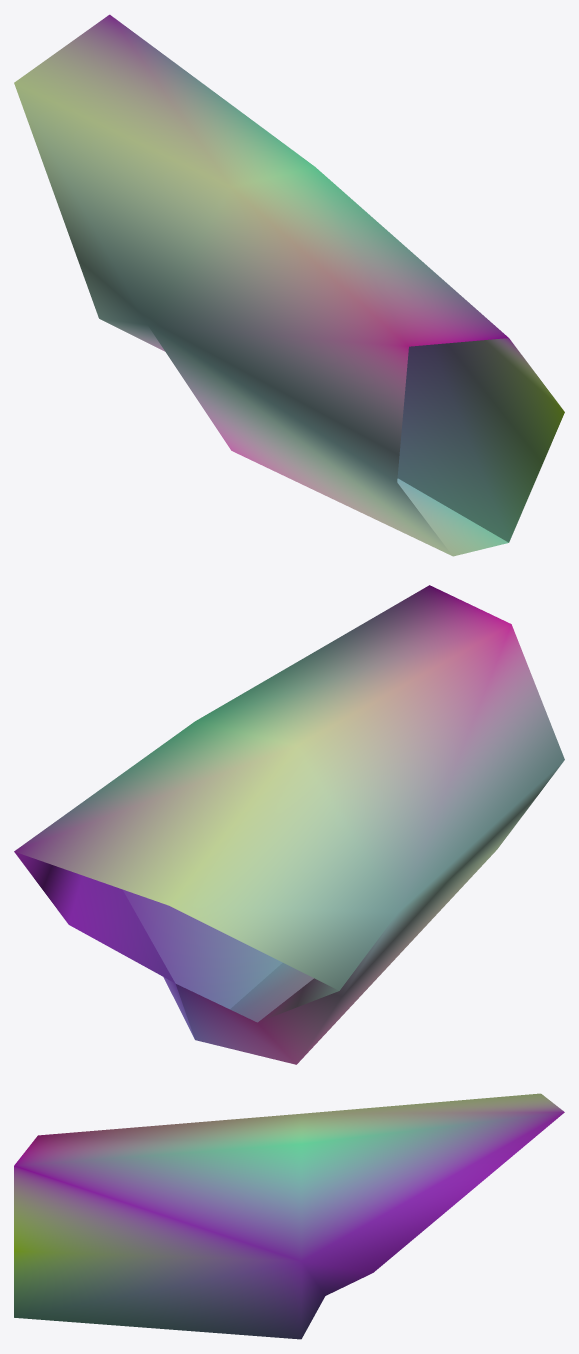
3 views of the same model, one above another, from view 1: azimuth 30°, elevation 25°; view 2: azimuth 150°, elevation 25°; view 3: azimuth 270°, elevation 25° (orthographic). The views are drawn at different scales.
Parts seen in each view (by area): view 1: part; view 2: part; view 3: part.
Part boxes in pixels (x1,y1,x2,y2): part: [14, 14, 564, 556]; part: [14, 585, 564, 1064]; part: [14, 1093, 564, 1339].
Bounding box in the file's own units: 9 × 10 × 23.
